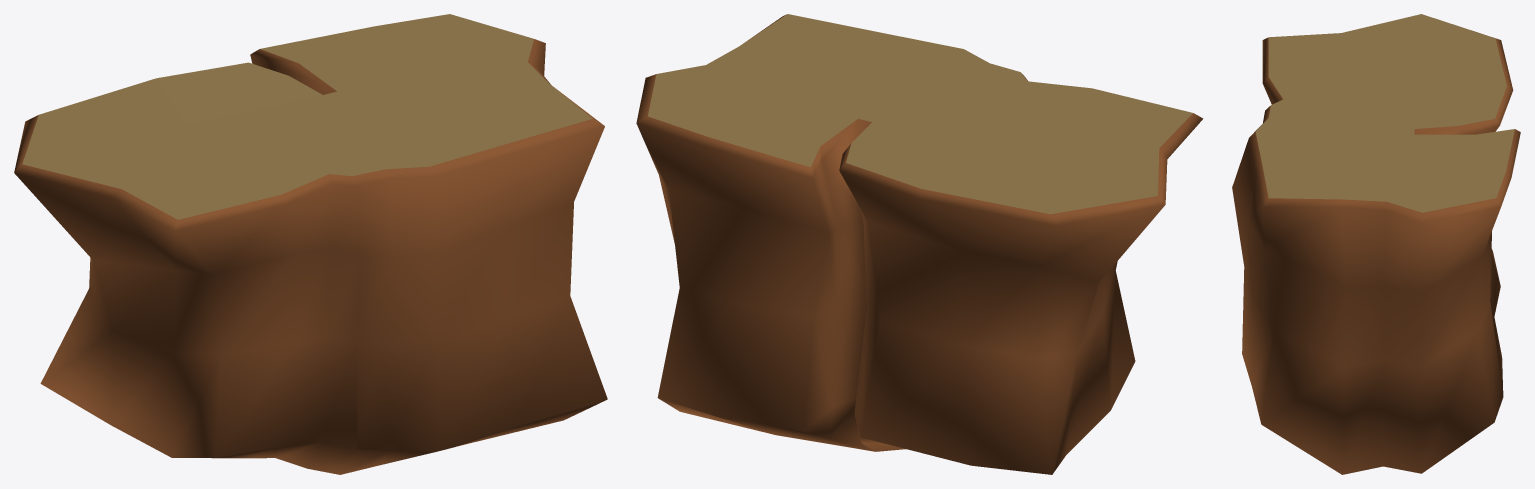
The model's file is Island_Desert_Small.fbx.
3 views of the same model, side by side, from view 1: azimuth 30°, elevation 25°; view 2: azimuth 150°, elevation 25°; view 3: azimuth 270°, elevation 25° (orthographic). The views are drawn at different scales.
Parts seen in each view (by area): view 1: Isand Desert Small; view 2: Isand Desert Small; view 3: Isand Desert Small.
Boxes of the visible parts, x1=… form: Isand Desert Small: x1=14, y1=14, x2=607, y2=474; Isand Desert Small: x1=636, y1=14, x2=1203, y2=474; Isand Desert Small: x1=1232, y1=14, x2=1520, y2=474.
Bounding box in the file's own units: 2821 × 1728 × 1668.
